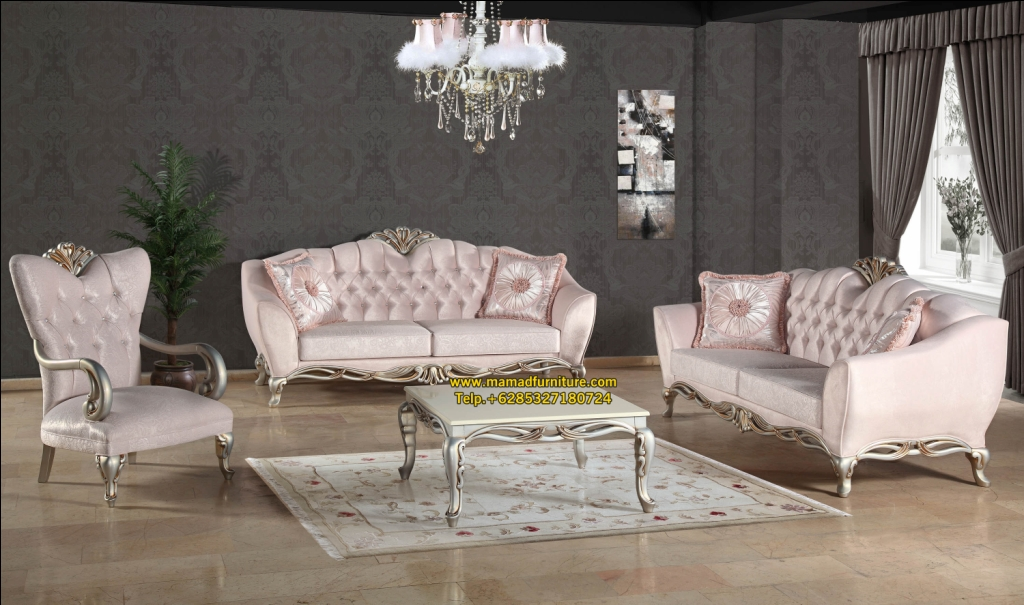Carving Chair: (643, 239, 1004, 500), (230, 224, 608, 382), (22, 245, 255, 489)
Carving Table: (397, 372, 650, 521)
